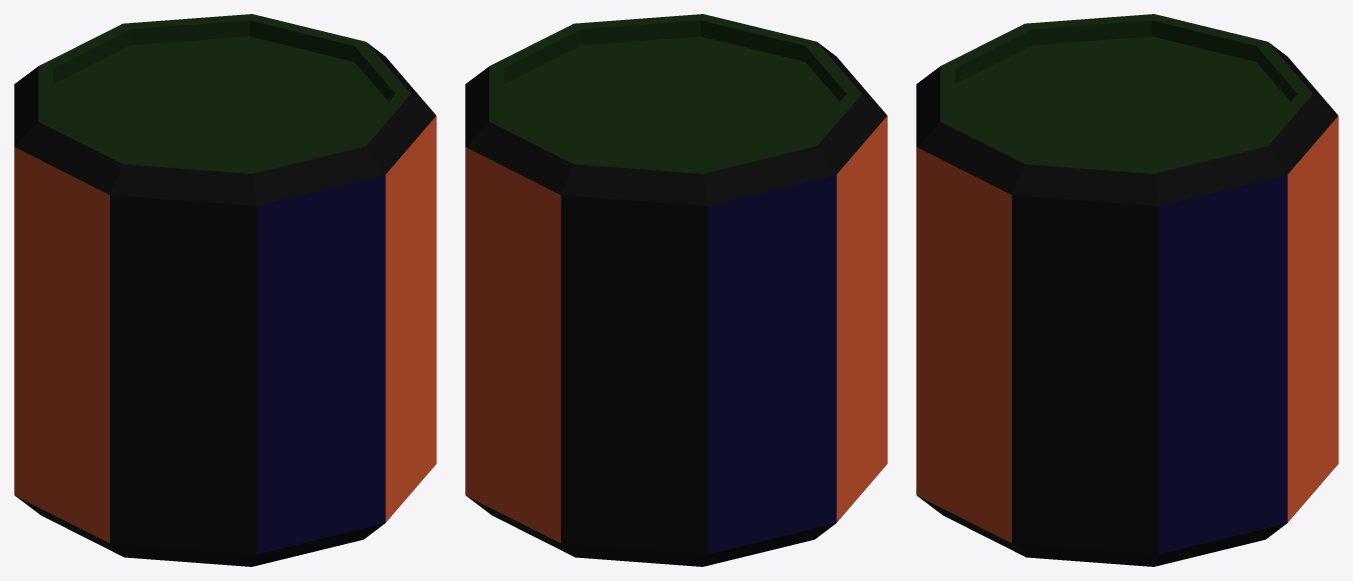
File: Barrel_Hangar.fbx
3 views of the same model, side by side, from view 1: azimuth 30°, elevation 25°; view 2: azimuth 150°, elevation 25°; view 3: azimuth 270°, elevation 25° (orthographic).
Parts seen in each view (by area): view 1: Barrel; view 2: Barrel; view 3: Barrel.
Part boxes in pixels (box(x1,y1,x2,y2)): Barrel: box(14, 14, 436, 566); Barrel: box(465, 14, 887, 566); Barrel: box(916, 14, 1338, 566).
Size of the model in its own units: 197 by 200 by 194.
